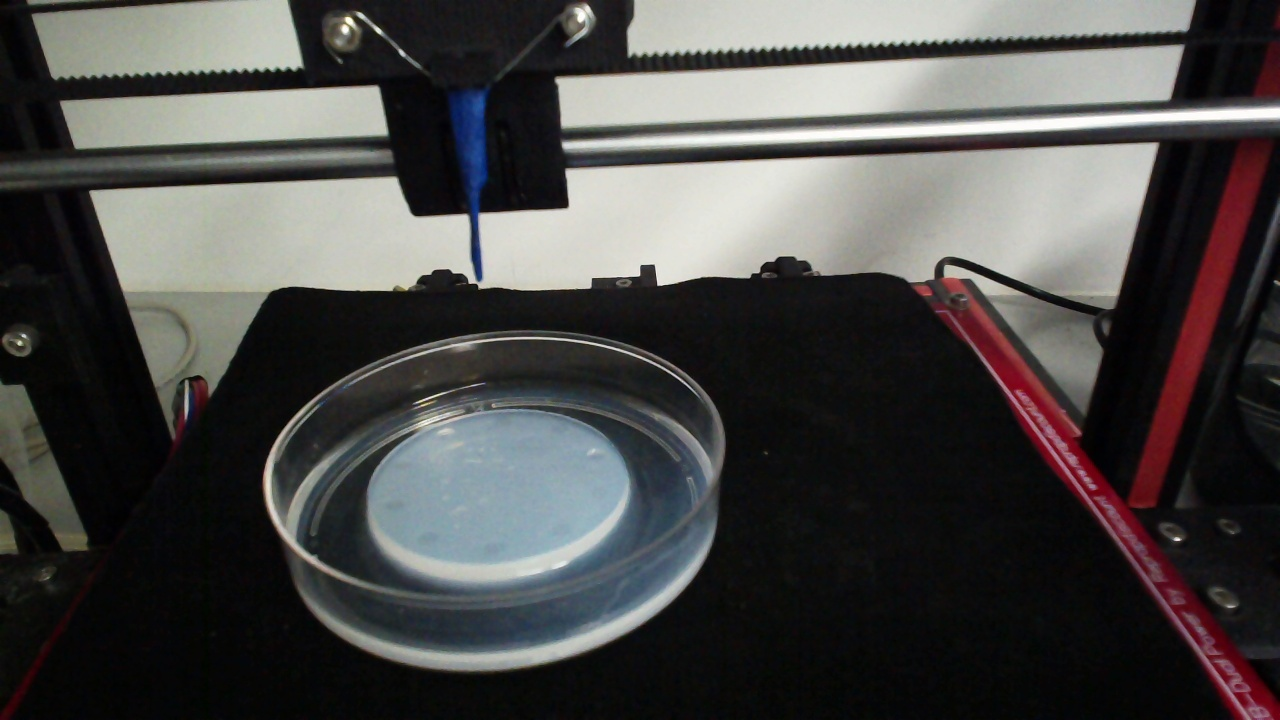groove: (415, 531, 440, 547), (482, 540, 507, 556), (549, 522, 572, 538), (586, 448, 608, 464), (588, 485, 609, 501), (434, 426, 455, 441), (384, 498, 405, 513), (492, 414, 514, 428), (550, 420, 570, 434), (395, 459, 414, 472)
needle: (447, 91, 484, 284)
